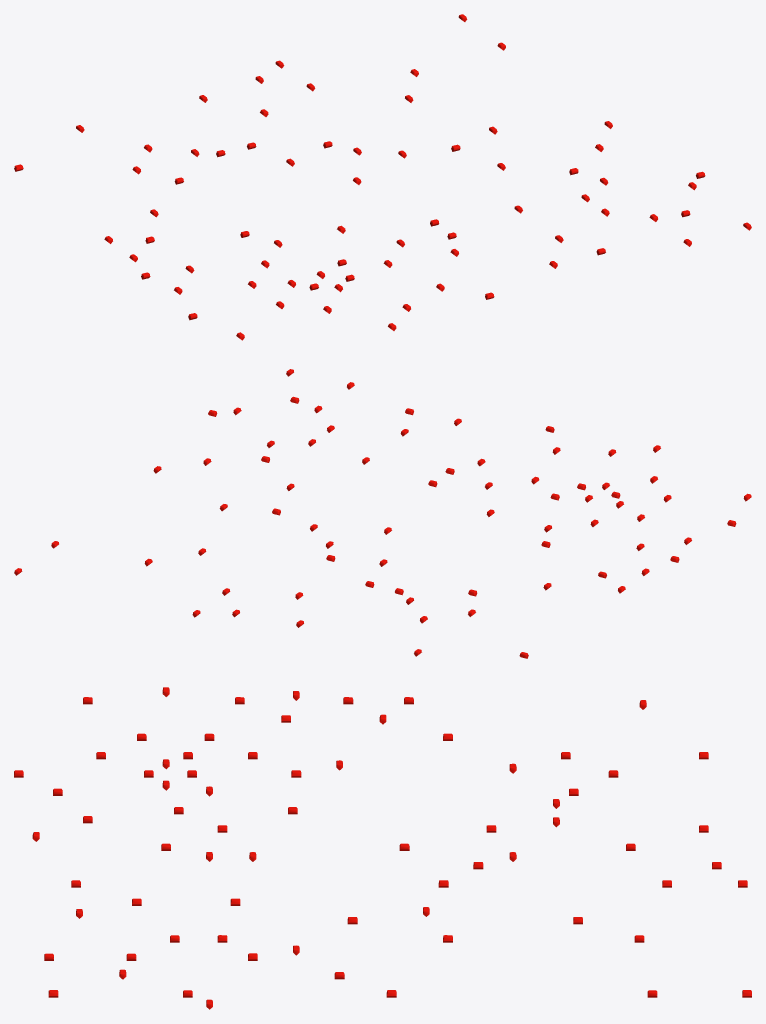
File: StoneBricks3.fbx
3 renders of one model, top to bottom at view 1: azimuth 30°, elevation 25°; view 2: azimuth 150°, elevation 25°; view 3: azimuth 270°, elevation 25°, orthographic. The views are drawn at different scales.
Visible parts, largest first — view 1: StoneBrick002_low001; view 2: StoneBrick002_low001; view 3: StoneBrick002_low001.
Part boxes in pixels (x1,y1,x2,y2): StoneBrick002_low001: (14, 14, 751, 340); StoneBrick002_low001: (14, 369, 751, 658); StoneBrick002_low001: (14, 687, 751, 1009).
Size of the model in its own units: 1728 by 16 by 1702.
